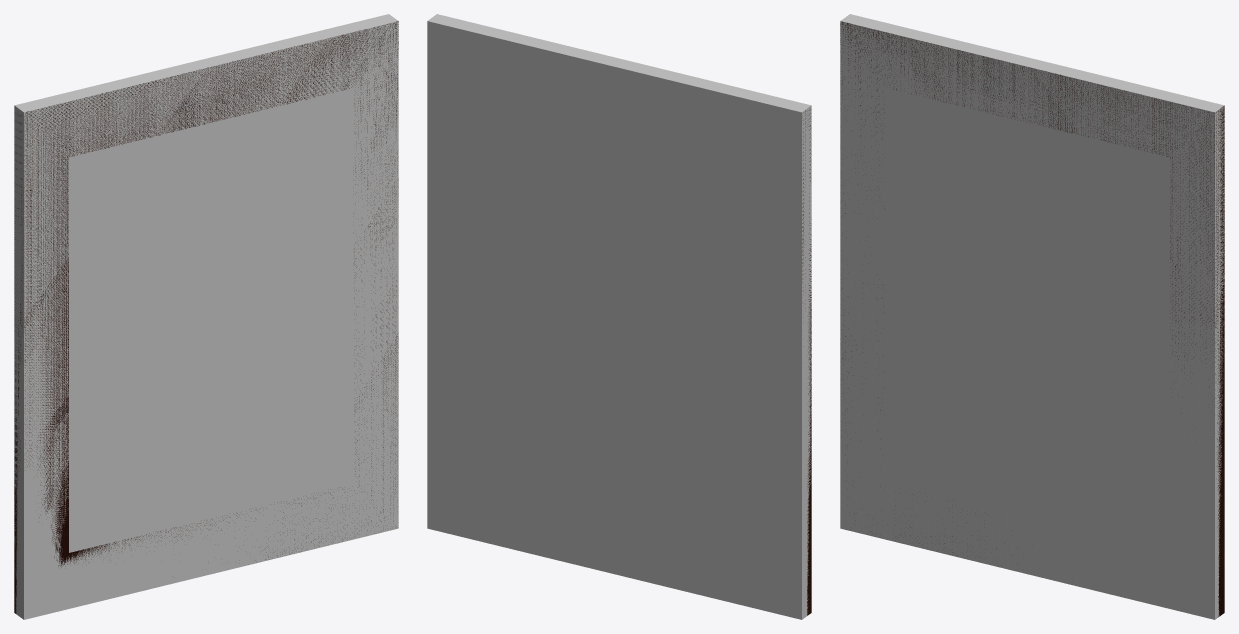
The model's file is painting_01.DAE.
The picture shows the model from 3 angles, left to right: view 1: azimuth 30°, elevation 25°; view 2: azimuth 150°, elevation 25°; view 3: azimuth 330°, elevation 25°; orthographic projection.
Parts seen in each view (by area): view 1: bounds, painting_one100; view 2: bounds, painting_one100; view 3: bounds, painting_one100.
Boxes of the visible parts, x1,y1,x2,y2 form: bounds: [14, 14, 398, 619]; painting_one100: [14, 21, 398, 613]; bounds: [427, 14, 811, 619]; painting_one100: [802, 109, 811, 615]; bounds: [840, 14, 1224, 619]; painting_one100: [840, 21, 1224, 616].
Bounding box in the file's own units: 85.37 × 3.82 × 111.
